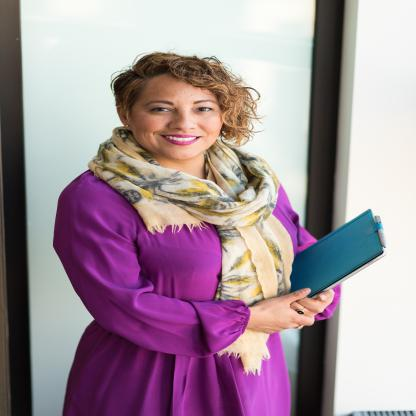Eye: (148, 104, 174, 116), (195, 105, 217, 114)
Mouth: (160, 134, 204, 146)
Nose: (168, 112, 201, 132)
